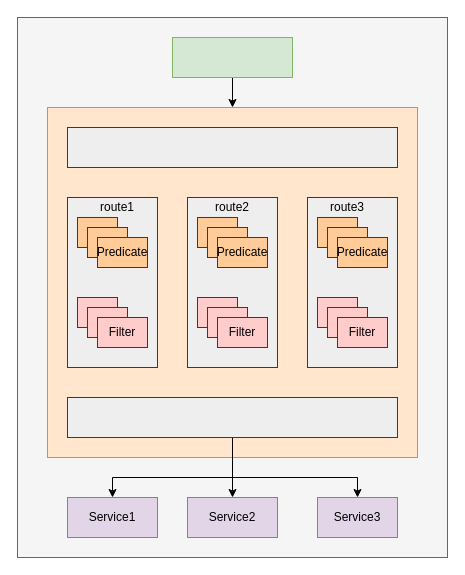
The diagram is 465 pixels wide and 575 high, and some of its shapes have lost their labels. Here are the shapes that lost their labels. From the top down, the centre of each, then its label:
pixel 232 57: 浏览器
pixel 232 147: NettyServer
pixel 232 417: Netty Client
